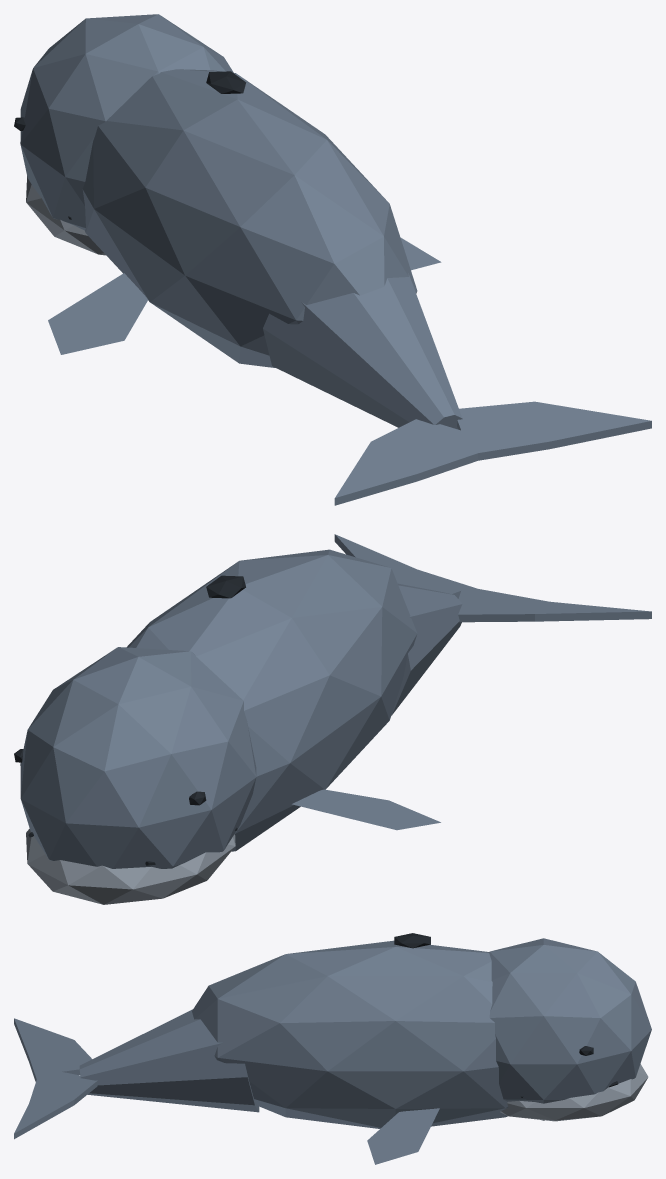
The model's file is BowheadWhale.fbx.
3 views of the same model, one above another, from view 1: azimuth 30°, elevation 25°; view 2: azimuth 150°, elevation 25°; view 3: azimuth 270°, elevation 25° (orthographic). The views are drawn at different scales.
Visible parts, largest first — view 1: Body, Head, TailPeduncle, TailFluke, FlipperSurface1, LowerJaw, BlowholeRim; view 2: Body, Head, LowerJaw, TailFluke, TailPeduncle, FlipperSurface1, BlowholeRim; view 3: Body, Head, TailPeduncle, TailFluke, LowerJaw, FlipperSurface-1, BlowholeRim.
Boxes of the visible parts, box(x1,y1,x2,y2) form: Body: box(82, 69, 417, 367); Head: box(20, 14, 233, 230); TailPeduncle: box(263, 273, 462, 429); TailFluke: box(334, 401, 651, 505); FlipperSurface1: box(48, 273, 147, 354); LowerJaw: box(26, 176, 105, 255); BlowholeRim: box(206, 71, 246, 93); Body: box(127, 549, 417, 851); Head: box(20, 647, 256, 868); LowerJaw: box(26, 829, 235, 904); TailFluke: box(334, 534, 651, 622); TailPeduncle: box(391, 583, 462, 715); FlipperSurface1: box(292, 789, 440, 830); BlowholeRim: box(206, 575, 245, 598); Body: box(192, 940, 508, 1128); Head: box(488, 938, 651, 1120); TailPeduncle: box(79, 1009, 259, 1112); TailFluke: box(14, 1018, 97, 1139); LowerJaw: box(500, 1064, 648, 1121); FlipperSurface-1: box(367, 1108, 439, 1164); BlowholeRim: box(394, 933, 430, 948).
Bounding box in the file's own units: 2.88 × 1.83 × 5.6.
